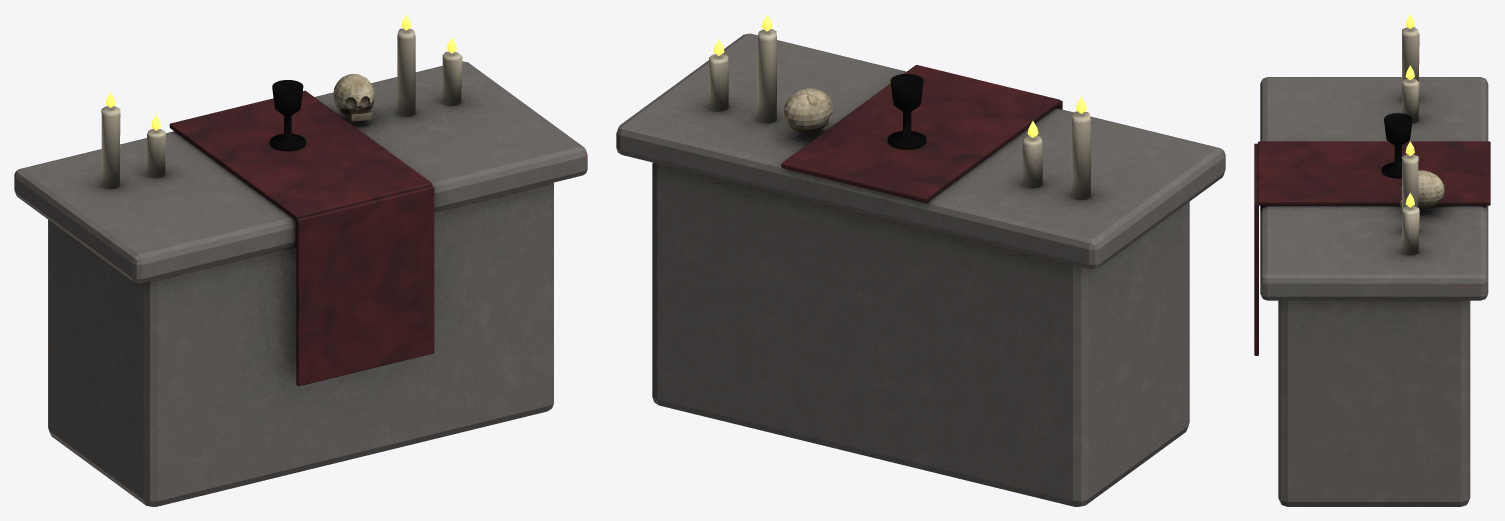
File: dg_altar_cripta.glb
3 views of the same model, side by side, from view 1: azimuth 30°, elevation 25°; view 2: azimuth 150°, elevation 25°; view 3: azimuth 270°, elevation 25° (orthographic). The views are drawn at different scales.
Visible parts, largest first — view 1: dg_altar_cripta_tronco; view 2: dg_altar_cripta_tronco; view 3: dg_altar_cripta_tronco.
Boxes of the visible parts, x1=… form: dg_altar_cripta_tronco: x1=14, y1=28, x2=587, y2=506; dg_altar_cripta_tronco: x1=616, y1=29, x2=1225, y2=506; dg_altar_cripta_tronco: x1=1254, y1=27, x2=1490, y2=506.
Size of the model in its own units: 2 by 1.54 by 0.985.
Materials: 5 (1 with a texture image).
